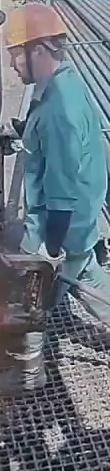gloves: (0, 115, 24, 156), (37, 241, 71, 267)
helmet: (2, 2, 67, 49)
vest: (16, 65, 107, 255)
